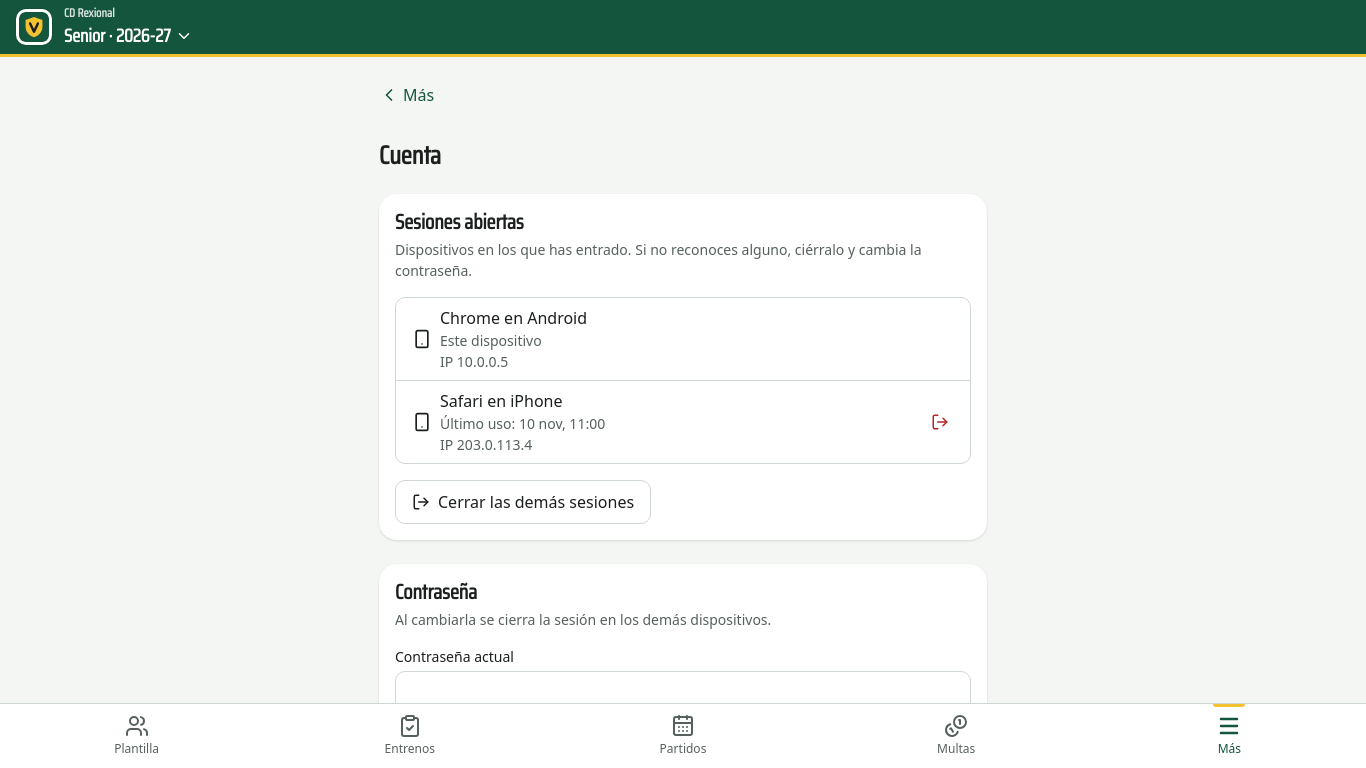
it: sesiones abiertas › cierra otra sesión tras confirmarlo
The width and height of the screenshot is (1366, 768).
Click the button named "Cerrar la sesión en Safari en iPhone" at (940, 422), box top-left (918, 400), bottom-right (962, 444)
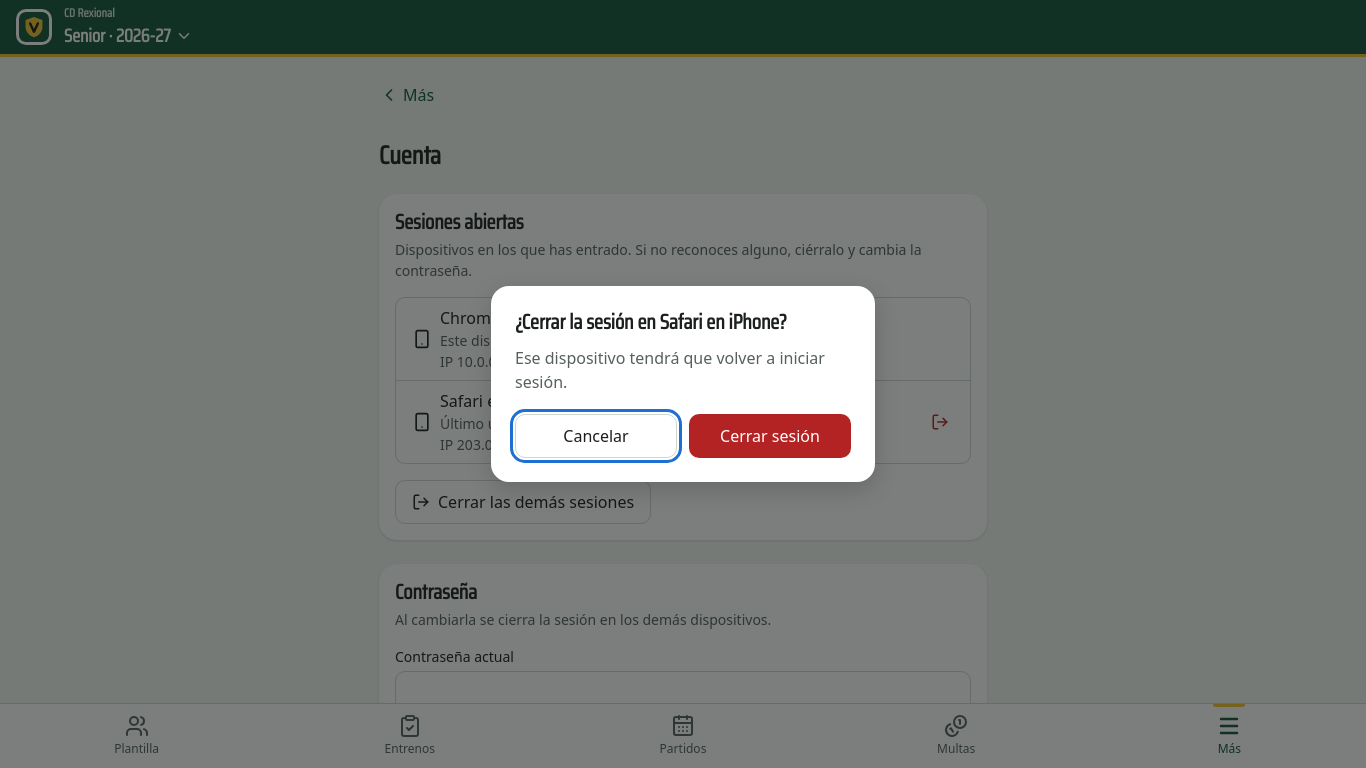
Click the button "Cerrar sesión" at (770, 436), box top-left (689, 414), bottom-right (851, 458)
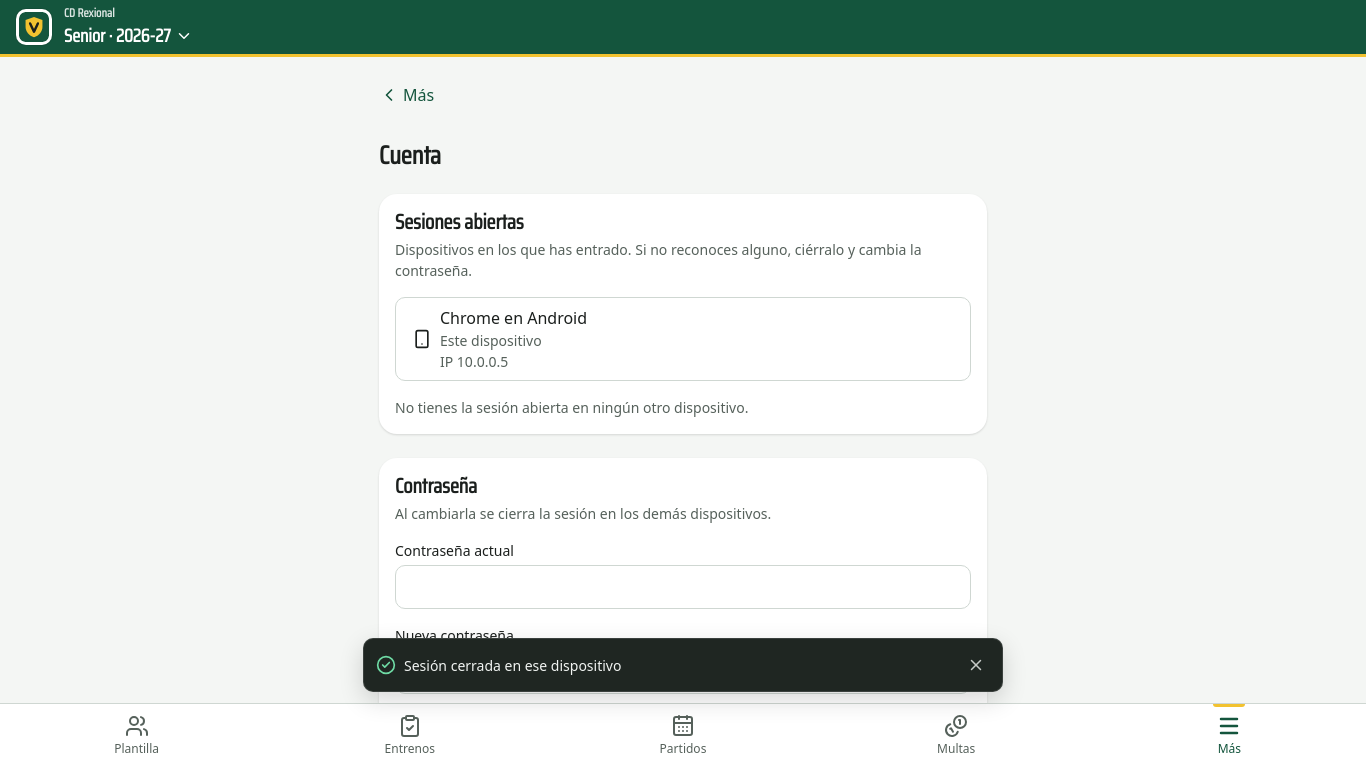
Now the text "Sesión cerrada en ese dispositivo" is shown, box top-left (404, 656), bottom-right (621, 674)
Now the text "No tienes la sesión abierta en ningún otro dispositivo." is shown, box top-left (395, 398), bottom-right (748, 417)
